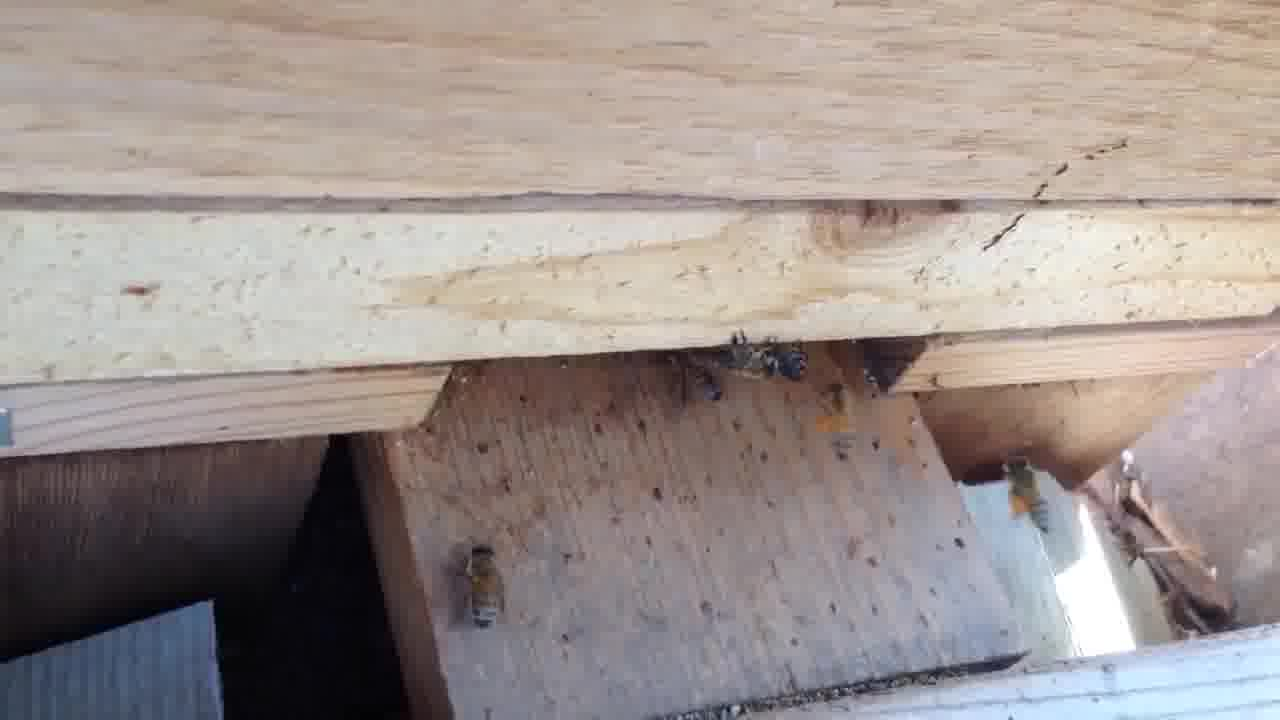pollen: (997, 454, 1056, 532), (818, 379, 862, 466)
